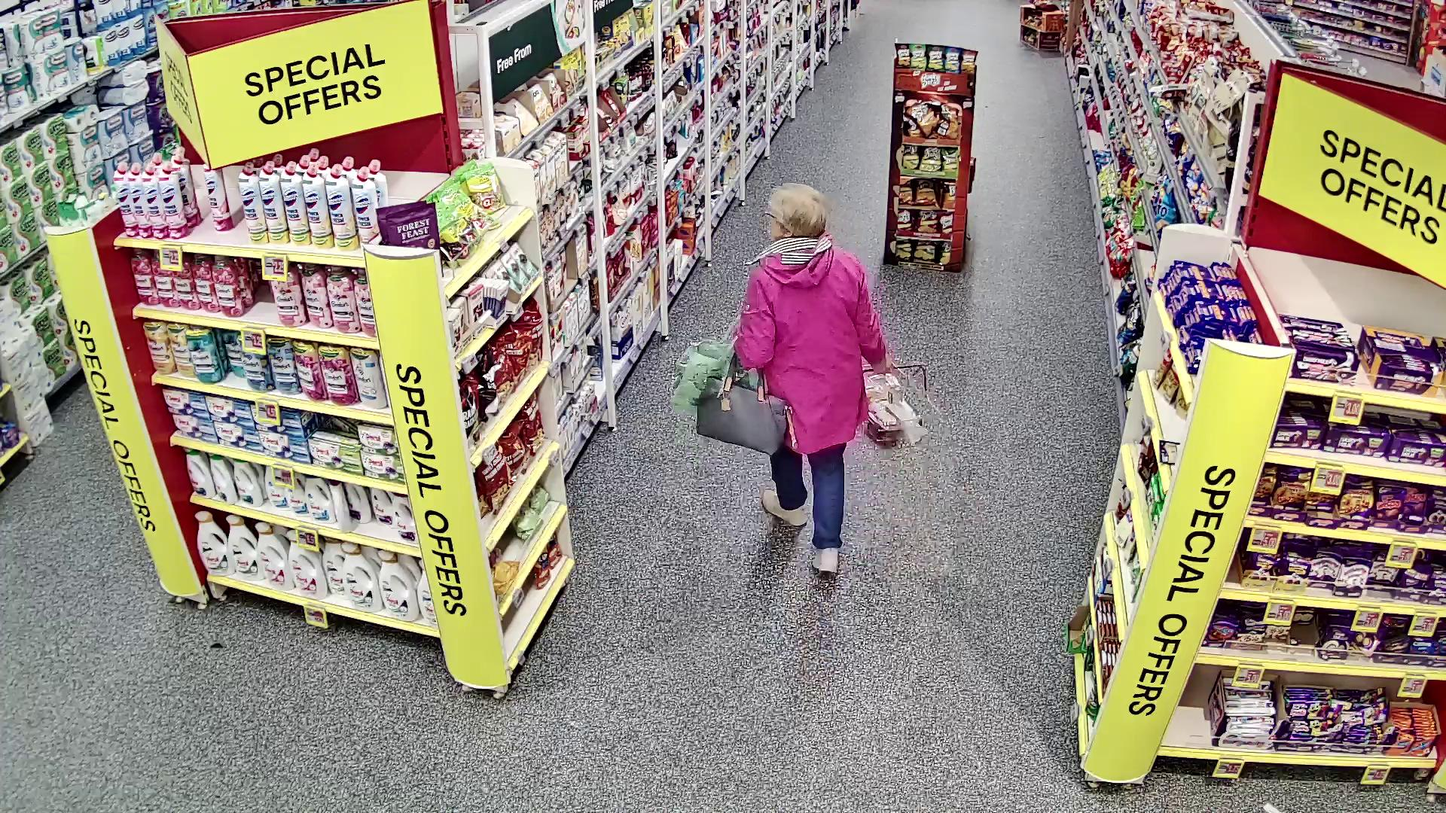backpack-or-handbag: (694, 376, 790, 457)
filled-basket: (857, 359, 942, 453)
filled-shopping-bags: (672, 330, 761, 410)
person: (734, 184, 889, 577)
person-with-basket-trolly-shopping-bag-s-and-backpack-handbag: (673, 183, 941, 582)
